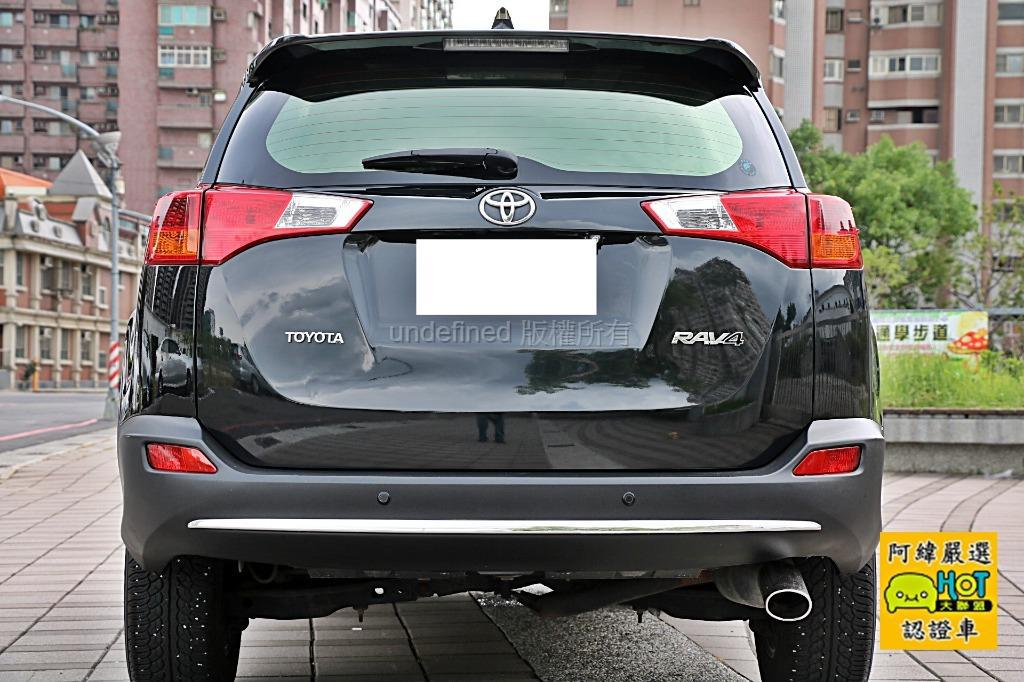toyota_rav4: (143, 30, 870, 609)
